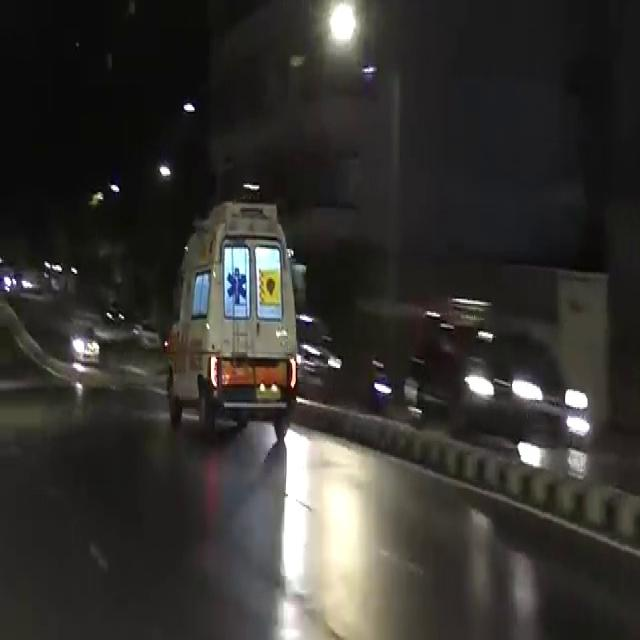ambulance: (161, 195, 340, 408)
